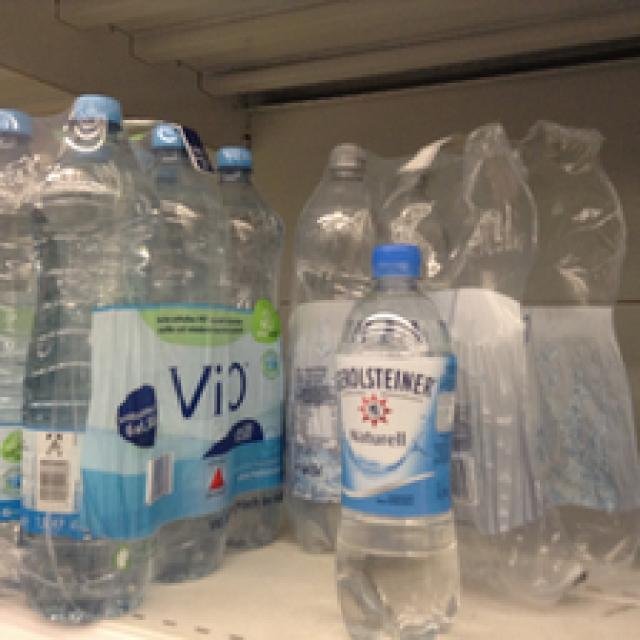groceries: (12, 91, 154, 626), (328, 240, 472, 637), (132, 120, 228, 571)
